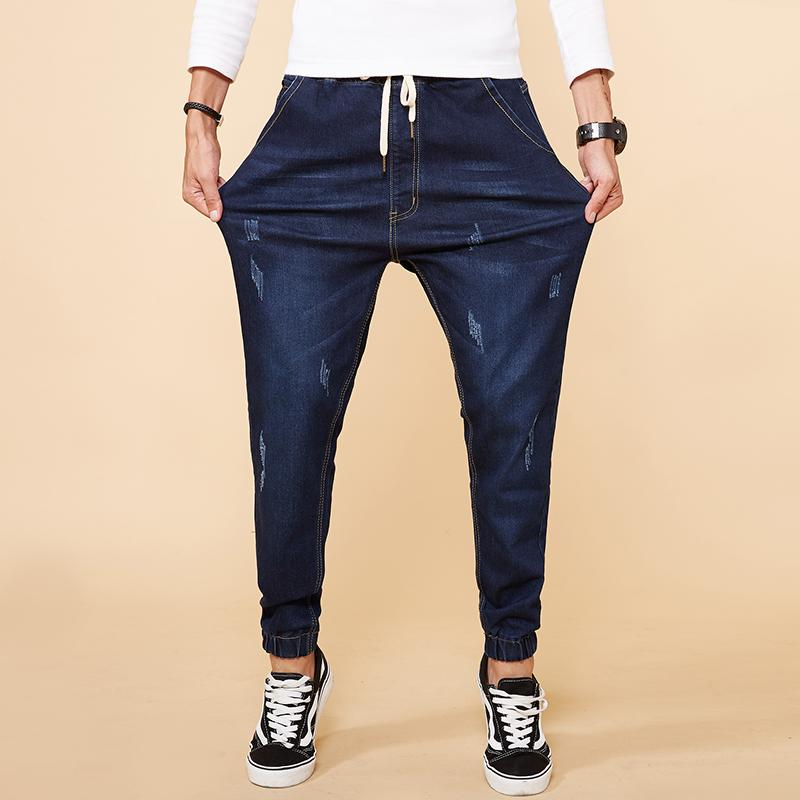jeans: (200, 67, 594, 694)
